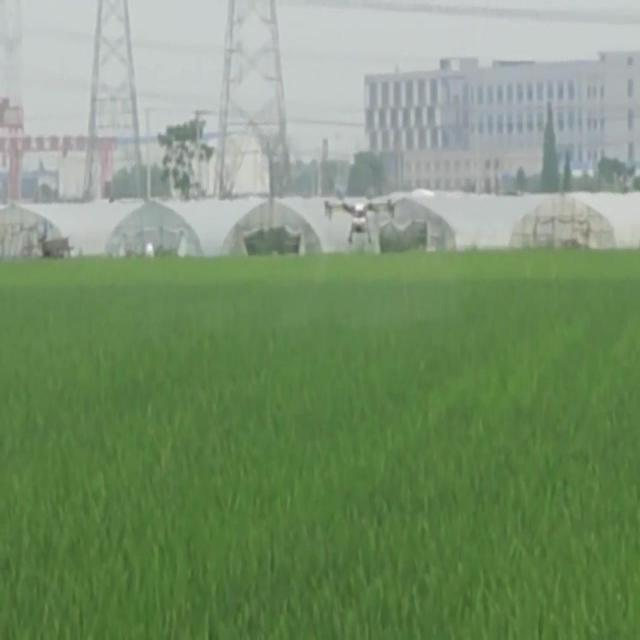UAV: (324, 191, 394, 245)
